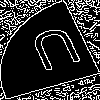U: (25, 25, 90, 81)
